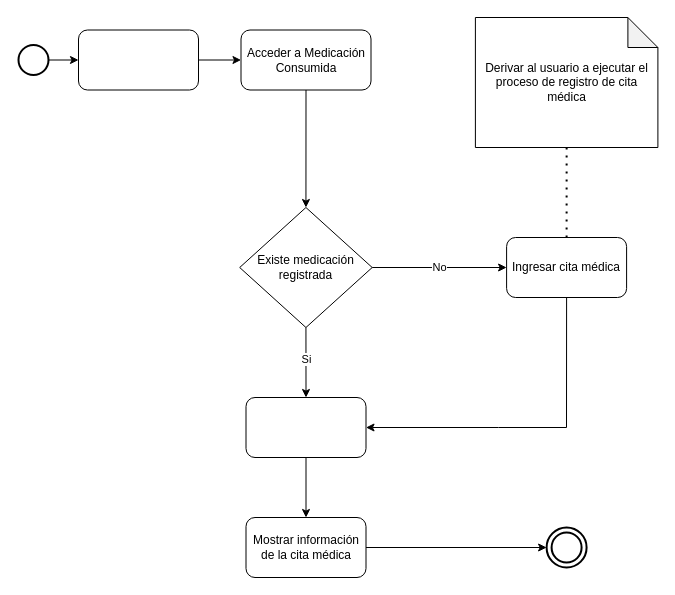
The diagram is 675 pixels wide and 595 high, and some of its shapes have lost their labels. Here are the shapes that lost their labels. From the top down, the centre of each, then its label:
the point at 138,59: Iniciar sesión como Paciente
the point at 305,427: Seleccionar cita médica
